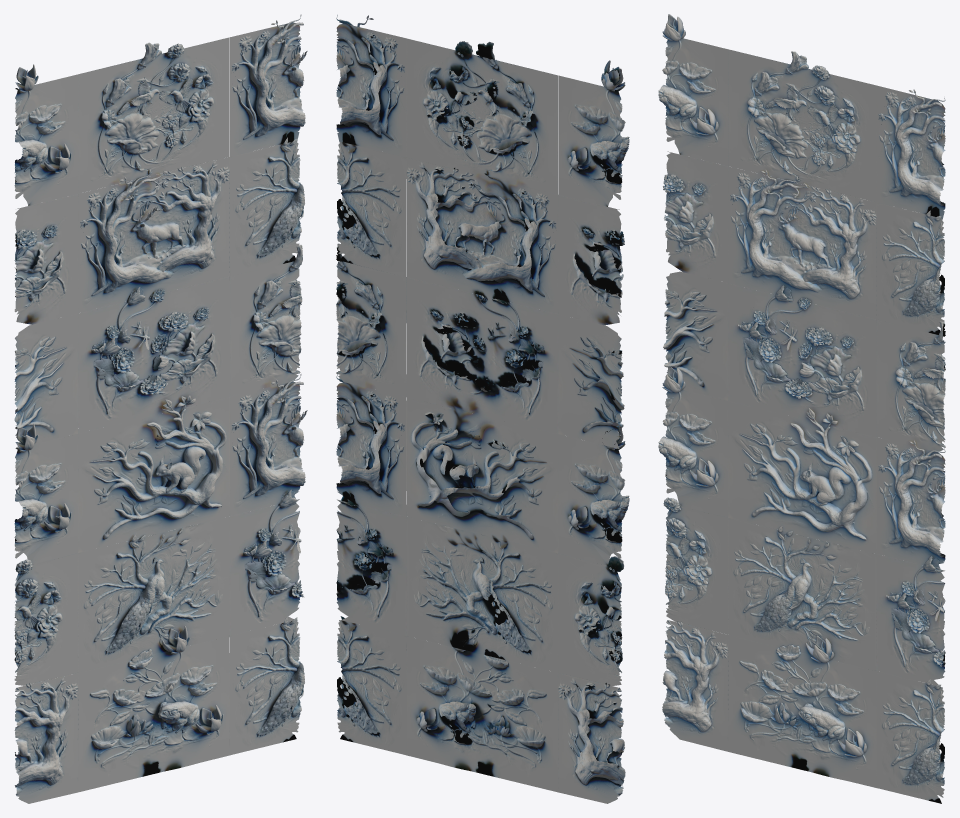
Rendered from reliefs_high_compressed.glb.
3 renders of one model, left to right at view 1: azimuth 30°, elevation 25°; view 2: azimuth 150°, elevation 25°; view 3: azimuth 330°, elevation 25°, orthographic. The views are drawn at different scales.
Parts seen in each view (by area): view 1: frog_01, bird_01, squirrel_01, dragonflies_01, deer_01, peacock_v02, deer_01.001, dragonflies_01.002, bird_01.001, peacock_01.001, peacock_01.002, deer_01.002 (+6 smaller); view 2: bird_01, dragonflies_01, frog_01, squirrel_01, deer_01, peacock_v02, bird_01.001, dragonflies_01.002, deer_01.001, peacock_01.002, peacock_01.001, deer_01.002 (+6 smaller); view 3: frog_01, bird_01, squirrel_01, dragonflies_01, deer_01, peacock_v02, bird_01.001, dragonflies_01.002, deer_01.001, peacock_01.002, peacock_01.001, deer_01.002 (+6 smaller).
Part boxes in pixels (bbox=[...]): frog_01: bbox=[78, 626, 229, 792]; bird_01: bbox=[78, 37, 229, 193]; squirrel_01: bbox=[78, 395, 229, 552]; dragonflies_01: bbox=[78, 276, 229, 433]; deer_01: bbox=[78, 157, 229, 313]; peacock_v02: bbox=[78, 516, 229, 672]; deer_01.001: bbox=[230, 14, 307, 156]; dragonflies_01.002: bbox=[229, 489, 304, 635]; bird_01.001: bbox=[230, 245, 302, 396]; peacock_01.001: bbox=[230, 137, 304, 276]; peacock_01.002: bbox=[229, 616, 304, 755]; deer_01.002: bbox=[229, 374, 307, 515]; bird_01: bbox=[406, 38, 557, 194]; dragonflies_01: bbox=[406, 277, 558, 433]; frog_01: bbox=[407, 630, 558, 792]; squirrel_01: bbox=[406, 397, 558, 553]; deer_01: bbox=[406, 158, 558, 313]; peacock_v02: bbox=[407, 516, 558, 672]; bird_01.001: bbox=[336, 243, 406, 396]; dragonflies_01.002: bbox=[336, 492, 406, 635]; deer_01.001: bbox=[336, 15, 406, 157]; peacock_01.002: bbox=[337, 616, 406, 755]; peacock_01.001: bbox=[337, 141, 406, 277]; deer_01.002: bbox=[336, 374, 406, 516]; frog_01: bbox=[728, 635, 876, 787]; bird_01: bbox=[728, 49, 876, 202]; squirrel_01: bbox=[728, 401, 876, 553]; dragonflies_01: bbox=[728, 283, 876, 436]; deer_01: bbox=[728, 166, 876, 319]; peacock_v02: bbox=[728, 518, 876, 670]; bird_01.001: bbox=[876, 319, 945, 452]; dragonflies_01.002: bbox=[876, 554, 945, 685]; deer_01.001: bbox=[876, 85, 945, 218]; peacock_01.002: bbox=[876, 671, 944, 803]; peacock_01.001: bbox=[876, 202, 944, 334]; deer_01.002: bbox=[876, 437, 945, 565].
Size of the model in its own units: 25.01 by 62.04 by 1.3.
Materials: 6 (6 with a texture image).
